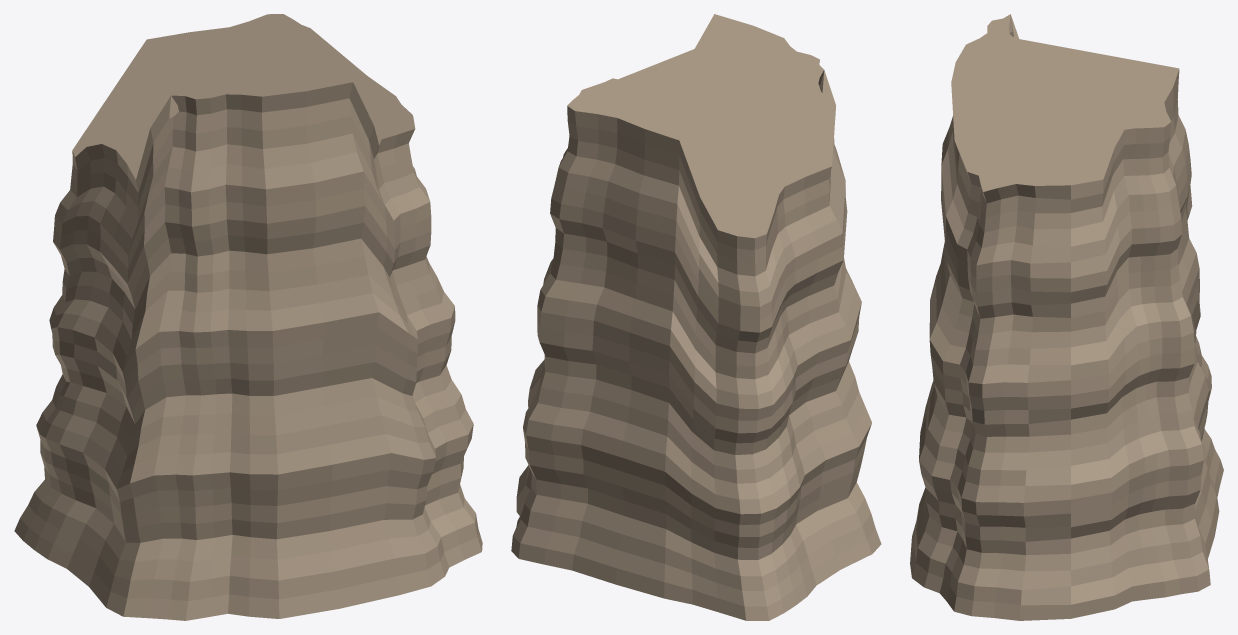
Rendered from cliff2.glb.
The picture shows the model from 3 angles, left to right: view 1: azimuth 30°, elevation 25°; view 2: azimuth 150°, elevation 25°; view 3: azimuth 270°, elevation 25°; orthographic projection. The views are drawn at different scales.
Visible parts, largest first — view 1: cliff2_cliff; view 2: cliff2_cliff; view 3: cliff2_cliff.
Boxes of the visible parts, x1,y1,x2,y2 form: cliff2_cliff: (14,14,482,620); cliff2_cliff: (511,14,881,620); cliff2_cliff: (910,14,1223,620).
Size of the model in its own units: 50.27 by 67.2 by 40.7.
